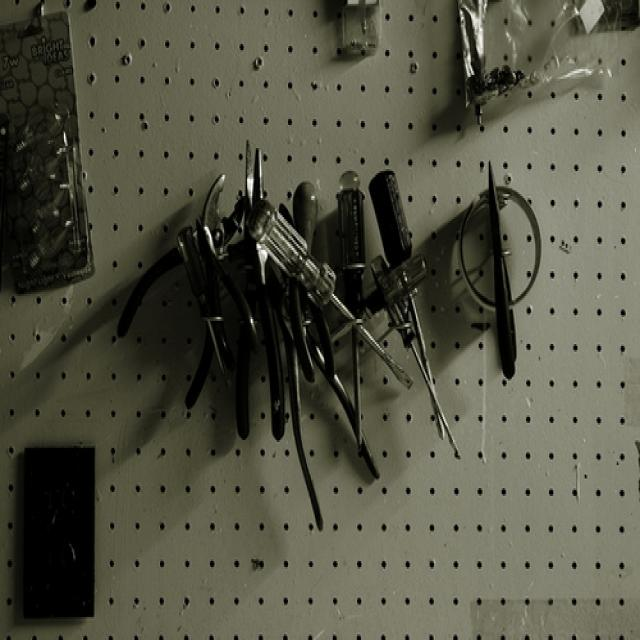Pliers: (112, 170, 251, 400)
Screwdriver: (241, 195, 430, 394)
